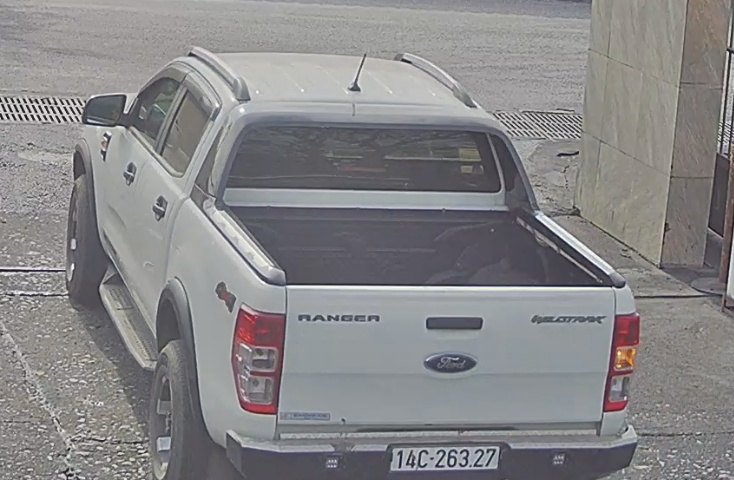vehicle plate: (383, 441, 507, 478)
